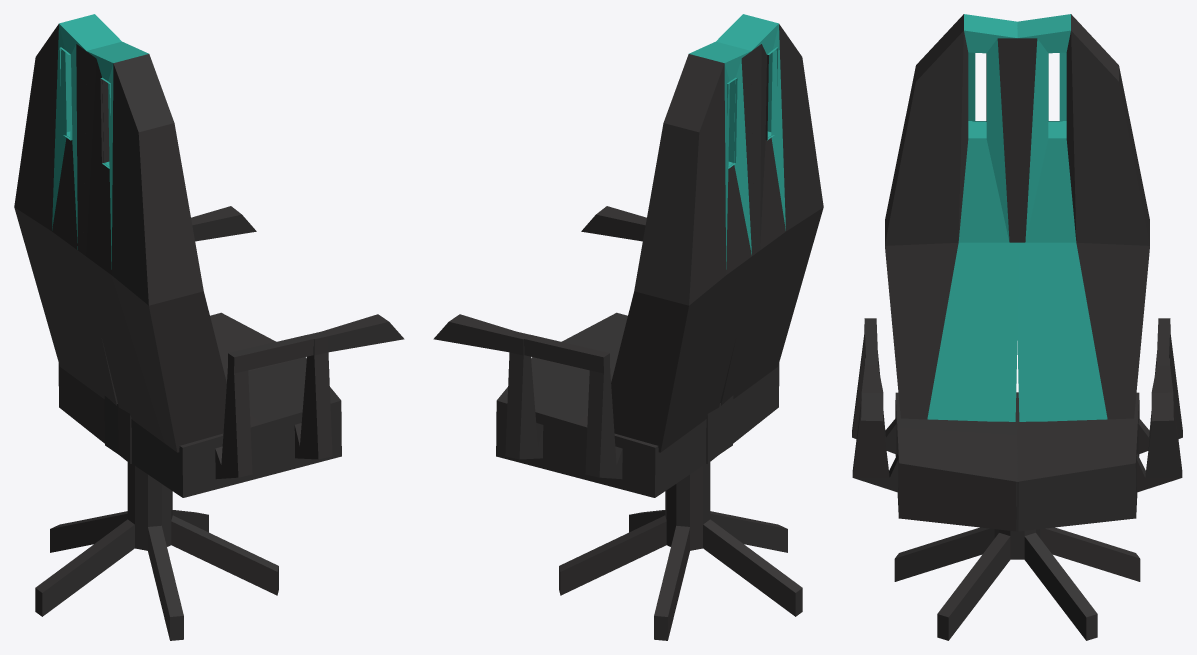
Rendered from silla gamer.fbx.
3 views of the same model, side by side, from view 1: azimuth 30°, elevation 25°; view 2: azimuth 150°, elevation 25°; view 3: azimuth 270°, elevation 25° (orthographic).
Visible parts, largest first — view 1: Cylinder.009; view 2: Cylinder.009; view 3: Cylinder.009.
Boxes of the visible parts, <box> form: Cylinder.009: <box>14,14,404,640</box>; Cylinder.009: <box>433,14,823,640</box>; Cylinder.009: <box>852,14,1182,640</box>.
Size of the model in its own units: 140 by 262 by 142.
